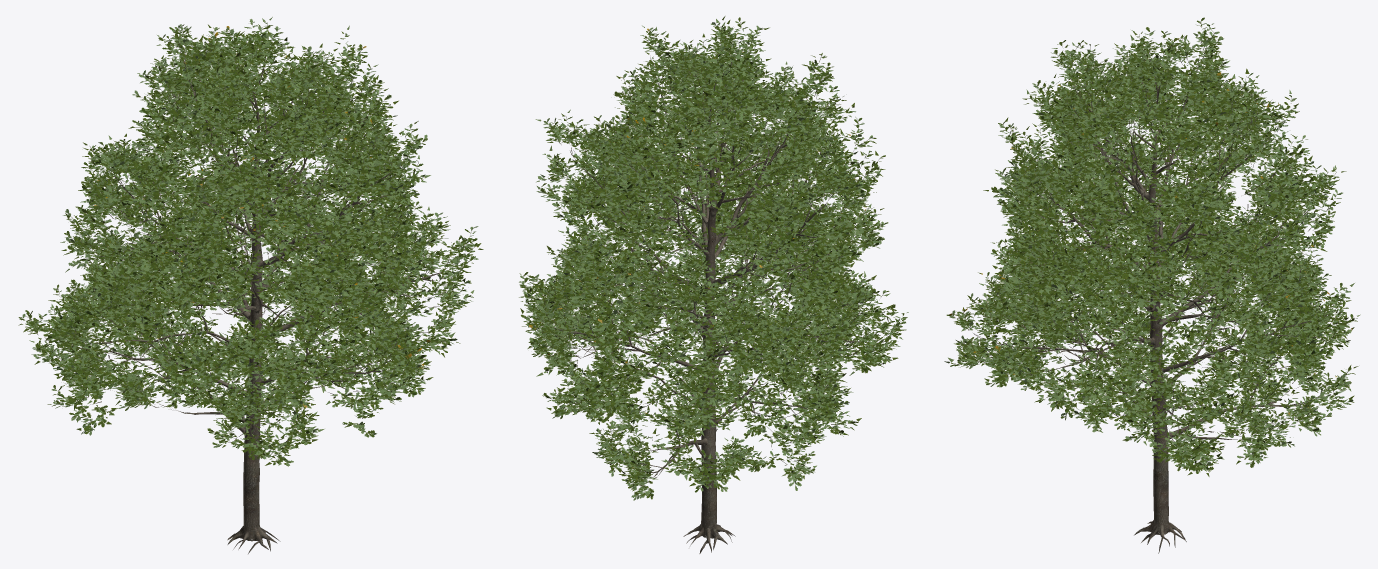
File: quercus-robur-urban-ld-s13.glb
The picture shows the model from 3 angles, left to right: view 1: azimuth 30°, elevation 25°; view 2: azimuth 150°, elevation 25°; view 3: azimuth 270°, elevation 25°; orthographic projection. The views are drawn at different scales.
Visible parts, largest first — view 1: ForestPlantCatalog_quercus-robur-urban-ld-s13; view 2: ForestPlantCatalog_quercus-robur-urban-ld-s13; view 3: ForestPlantCatalog_quercus-robur-urban-ld-s13.
Boxes of the visible parts, x1,y1,x2,y2 form: ForestPlantCatalog_quercus-robur-urban-ld-s13: [18, 17, 483, 553]; ForestPlantCatalog_quercus-robur-urban-ld-s13: [519, 16, 908, 553]; ForestPlantCatalog_quercus-robur-urban-ld-s13: [944, 17, 1360, 553].
Size of the model in its own units: 8.78 by 11.5 by 8.59.
13 materials, 13 textured.
